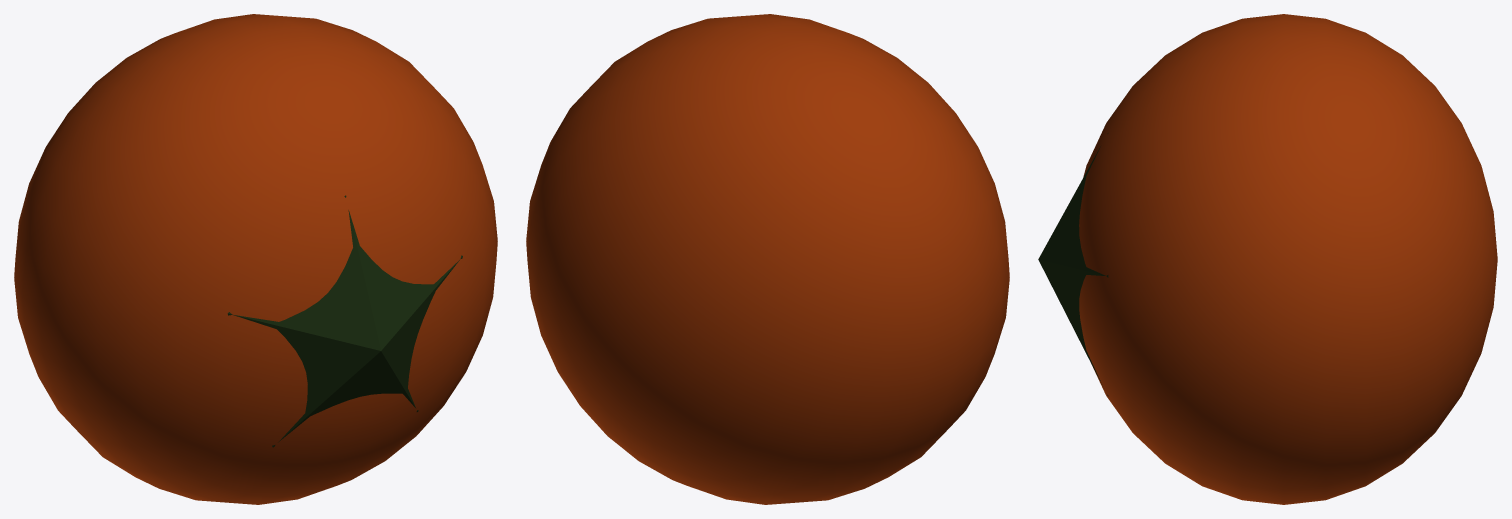
File: tomato_fruit_turning.obj
3 renders of one model, left to right at view 1: azimuth 30°, elevation 25°; view 2: azimuth 150°, elevation 25°; view 3: azimuth 270°, elevation 25°, orthographic.
Visible parts, largest first — view 1: fruit, calyx; view 2: fruit; view 3: fruit, calyx.
Part boxes in pixels (x1,y1,x2,y2): fruit: [14, 14, 497, 504]; calyx: [227, 195, 462, 447]; fruit: [526, 14, 1009, 504]; fruit: [1079, 14, 1497, 504]; calyx: [1038, 133, 1108, 396].
Size of the model in its own units: 0.07 by 0.07 by 0.0654.
